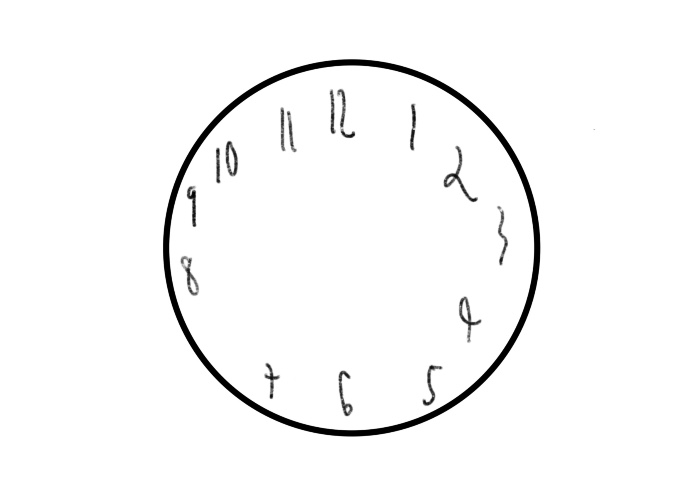eight: (180, 249, 206, 297)
eleven: (274, 104, 299, 151)
five: (422, 358, 444, 406)
four: (454, 295, 483, 344)
nine: (185, 181, 202, 229)
one: (404, 100, 423, 149)
seven: (257, 359, 283, 400)
six: (335, 365, 358, 419)
ten: (213, 140, 241, 184)
three: (489, 204, 511, 271)
twelve: (325, 87, 359, 140)
two: (443, 138, 480, 202)
